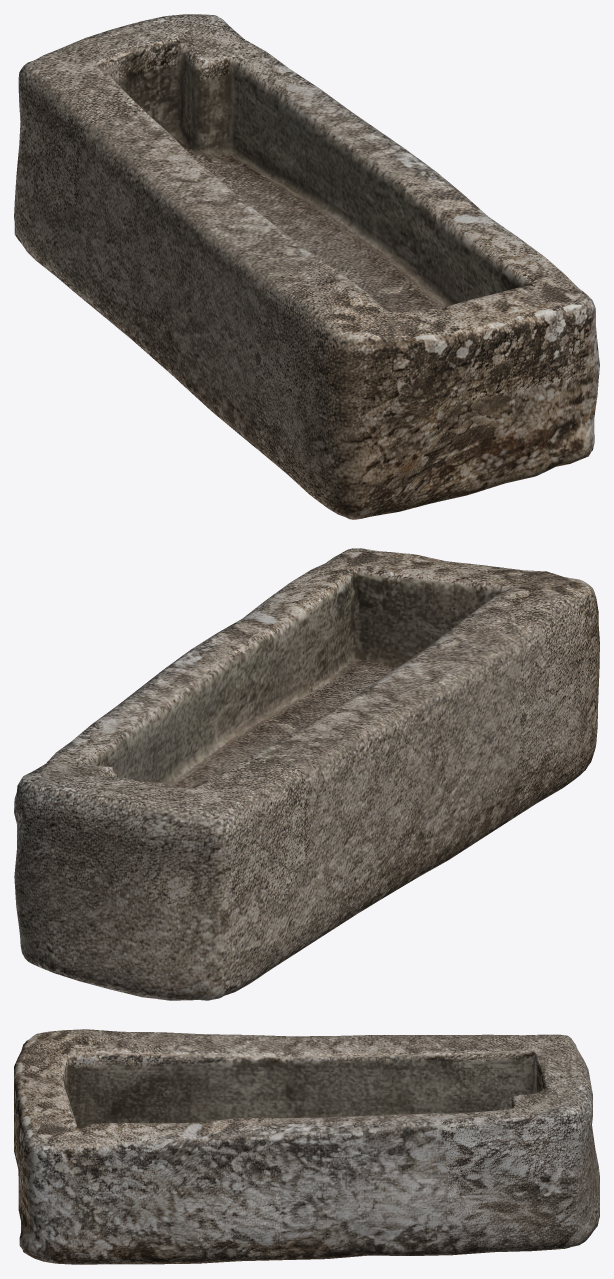
Rendered from peti-kubur-batu.glb.
The picture shows the model from 3 angles, top to bottom: view 1: azimuth 30°, elevation 25°; view 2: azimuth 150°, elevation 25°; view 3: azimuth 270°, elevation 25°; orthographic projection. The views are drawn at different scales.
Parts seen in each view (by area): view 1: tripo_node_0b584d5d-d0b8-498e-b298-10a5d11e3dcb; view 2: tripo_node_0b584d5d-d0b8-498e-b298-10a5d11e3dcb; view 3: tripo_node_0b584d5d-d0b8-498e-b298-10a5d11e3dcb.
Boxes of the visible parts, x1,y1,x2,y2 form: tripo_node_0b584d5d-d0b8-498e-b298-10a5d11e3dcb: (14,14,599,519); tripo_node_0b584d5d-d0b8-498e-b298-10a5d11e3dcb: (14,548,599,1000); tripo_node_0b584d5d-d0b8-498e-b298-10a5d11e3dcb: (14,1029,599,1264).
Bounding box in the file's own units: 0.4121 × 0.2949 × 0.998.
1 material, 1 textured.
